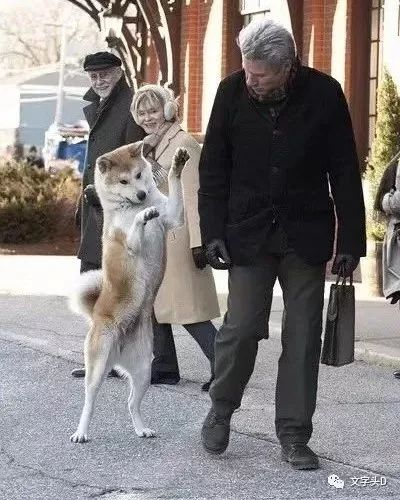dog: (74, 112, 188, 444)
person: (194, 12, 369, 474), (71, 39, 147, 302)
